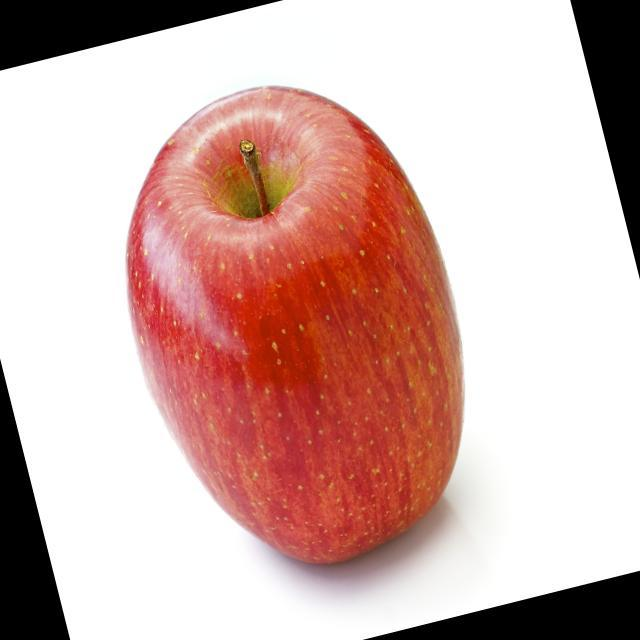APPLE: (84, 54, 509, 594)
